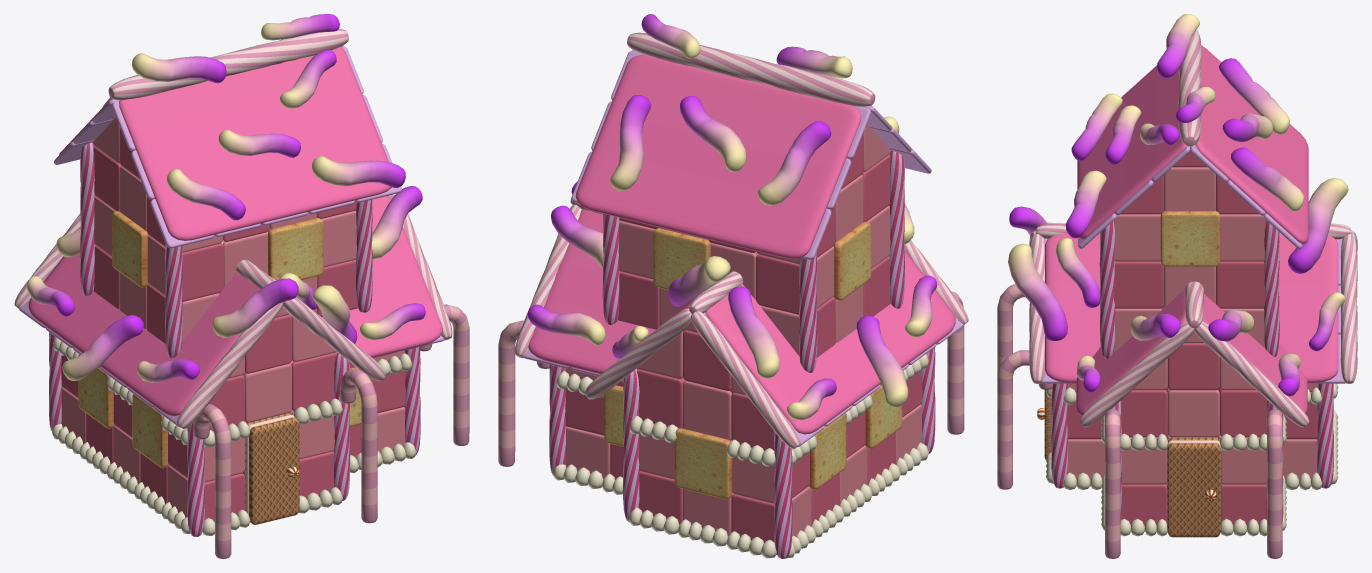
Rendered from cw_house_25.fbx.
3 renders of one model, left to right at view 1: azimuth 30°, elevation 25°; view 2: azimuth 150°, elevation 25°; view 3: azimuth 270°, elevation 25°, orthographic. The views are drawn at different scales.
Parts seen in each view (by area): view 1: cw_house_25; view 2: cw_house_25; view 3: cw_house_25.
Boxes of the visible parts, <box> form: cw_house_25: <box>14,14,469,558</box>; cw_house_25: <box>498,14,968,558</box>; cw_house_25: <box>997,14,1357,558</box>.
Bounding box in the file's own units: 822 × 946 × 749.
